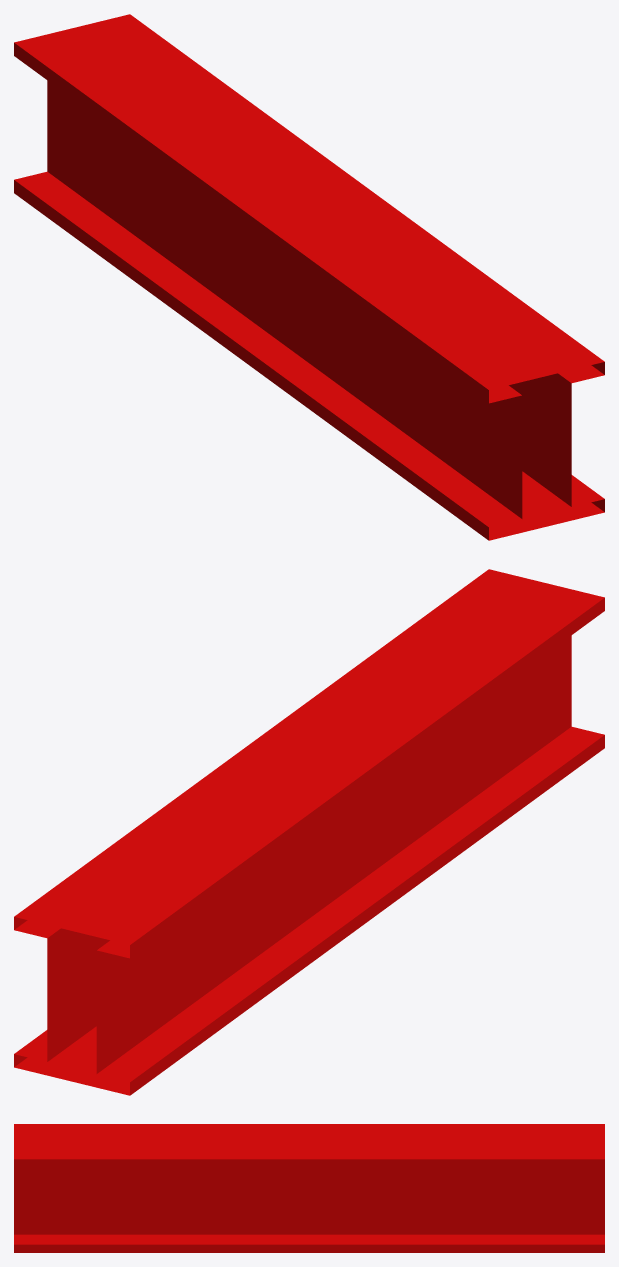
File: GirderA_SM.fbx
3 views of the same model, one above another, from view 1: azimuth 30°, elevation 25°; view 2: azimuth 150°, elevation 25°; view 3: azimuth 270°, elevation 25° (orthographic). The views are drawn at different scales.
Parts seen in each view (by area): view 1: pCube4; view 2: pCube4; view 3: pCube4.
Boxes of the visible parts, x1,y1,x2,y2 form: pCube4: (14, 14, 604, 540); pCube4: (14, 569, 604, 1095); pCube4: (14, 1124, 604, 1252).
Bounding box in the file's own units: 56.44 × 70 × 400.
